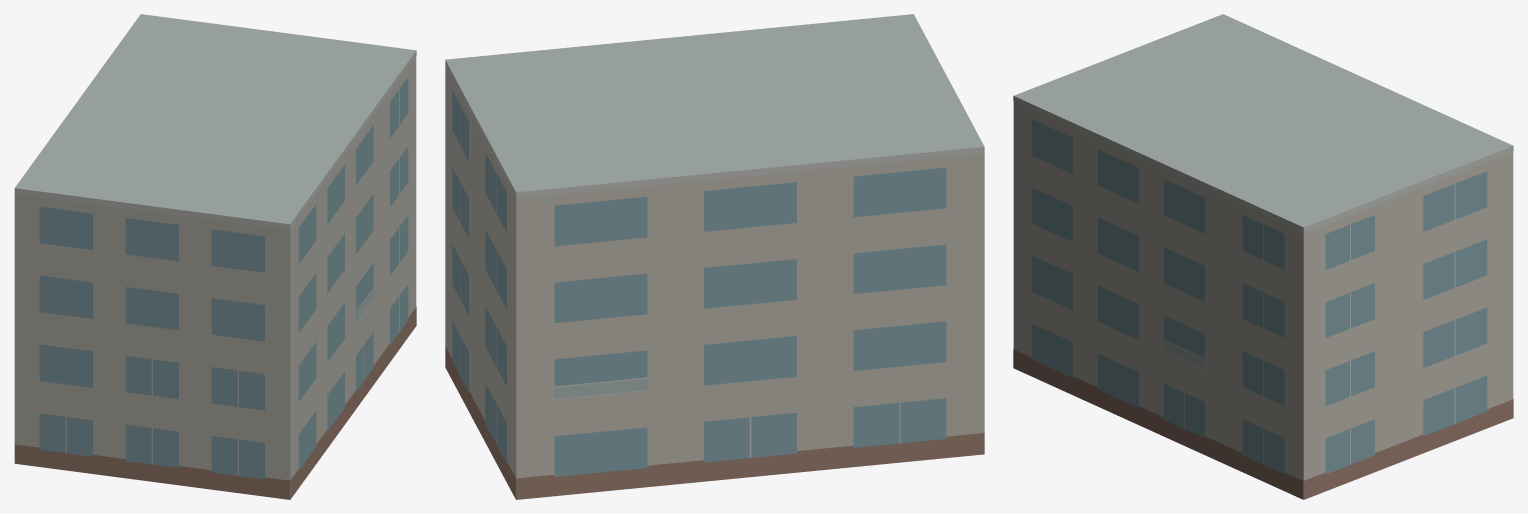
File: survey-upis-32773183.glb
3 views of the same model, side by side, from view 1: azimuth 30°, elevation 25°; view 2: azimuth 150°, elevation 25°; view 3: azimuth 270°, elevation 25° (orthographic). The views are drawn at different scales.
Parts seen in each view (by area): view 1: survey-upis-32773183.tmp; view 2: survey-upis-32773183.tmp; view 3: survey-upis-32773183.tmp.
Part boxes in pixels (left/top/right/bottom): survey-upis-32773183.tmp: left=14, top=14, right=416, bottom=499; survey-upis-32773183.tmp: left=445, top=14, right=984, bottom=499; survey-upis-32773183.tmp: left=1013, top=14, right=1513, bottom=499.
Size of the model in its own units: 19.67 by 11.7 by 19.47.
